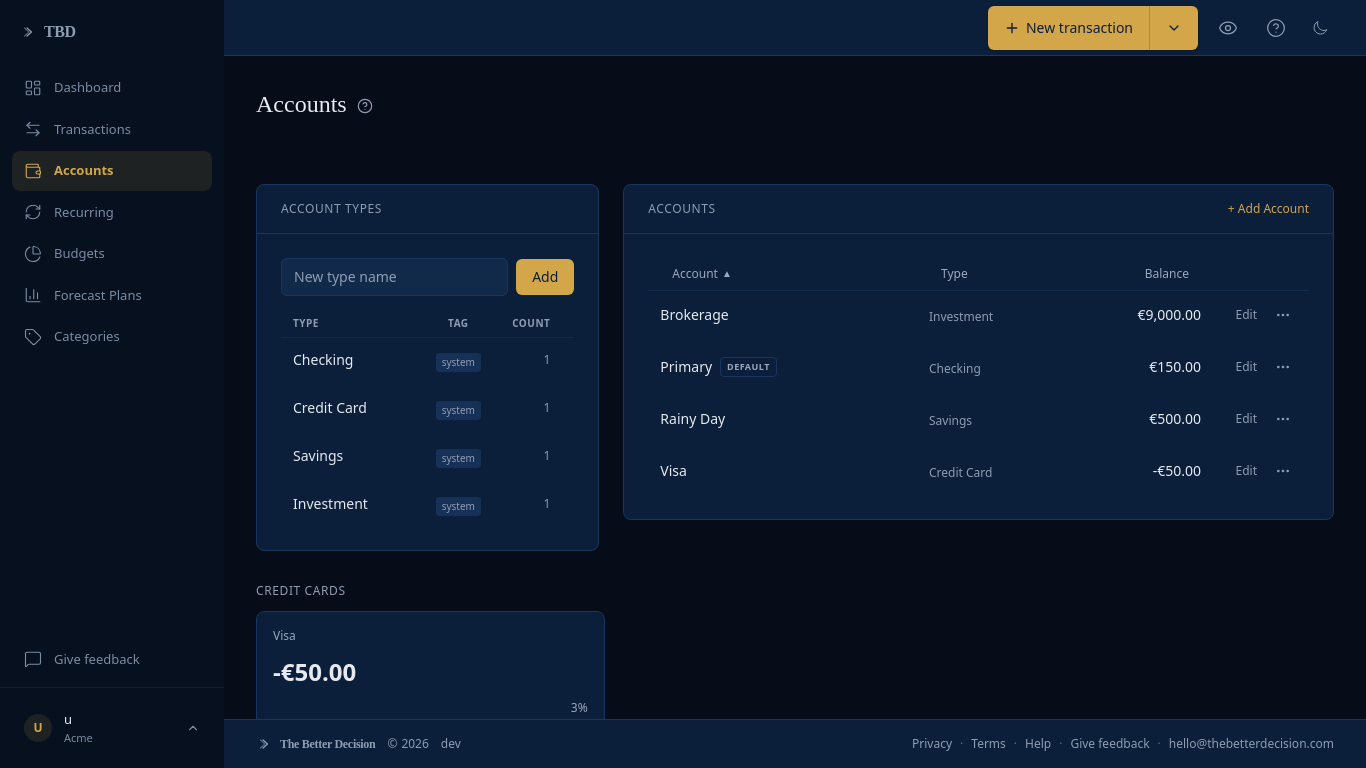
CC Model — form fields › edit row shows credit limit, APR and strategy for a CC account
The width and height of the screenshot is (1366, 768).
Click the 4th button "Edit ".
click(1246, 471)  # box 1236,463 -> 1257,479
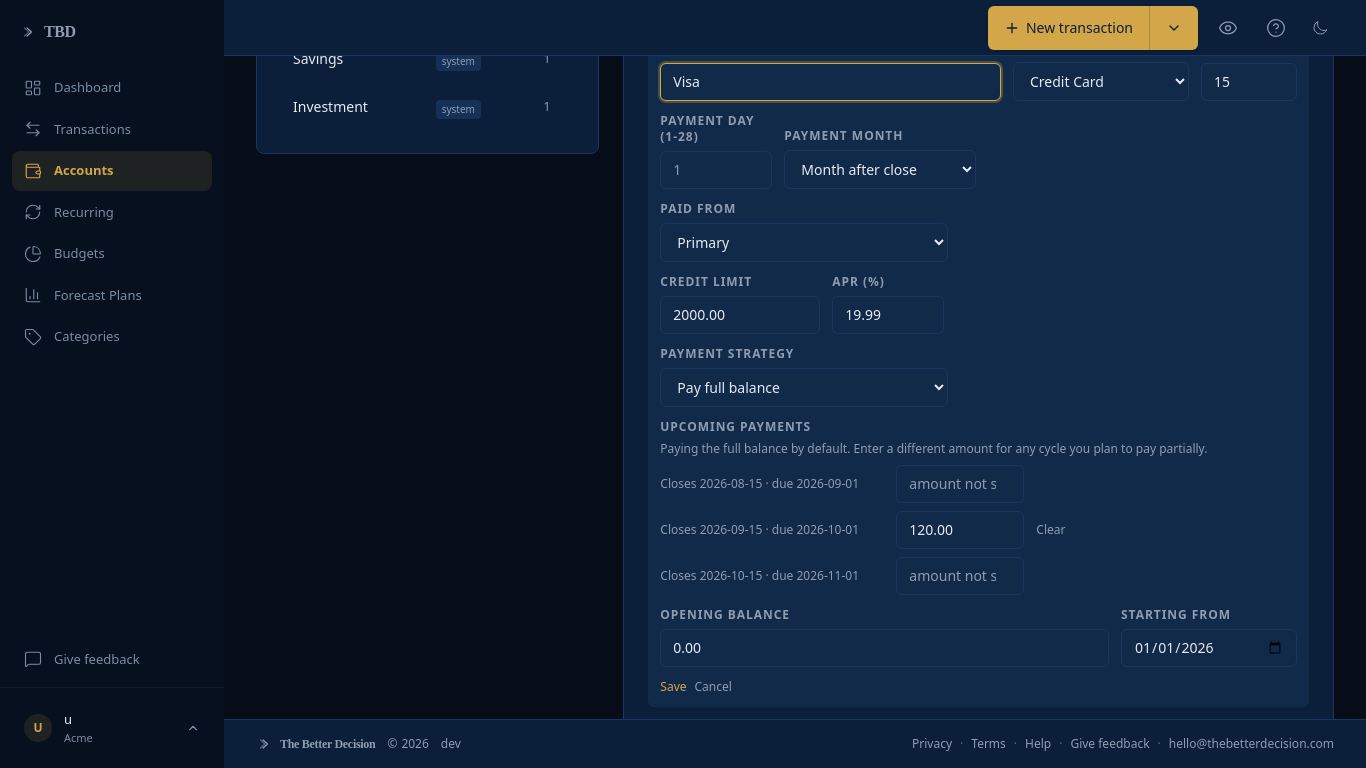
Check: the number field labelled "Credit limit" is shown, box 660,296 -> 820,334
Check: the number field labelled "APR (%)" is shown, box 832,296 -> 944,334
Check: the dropdown labelled "Payment strategy" is shown, box 660,368 -> 948,407
